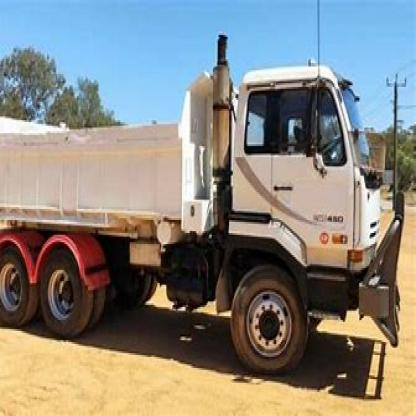dump_truck: (1, 44, 408, 379)
